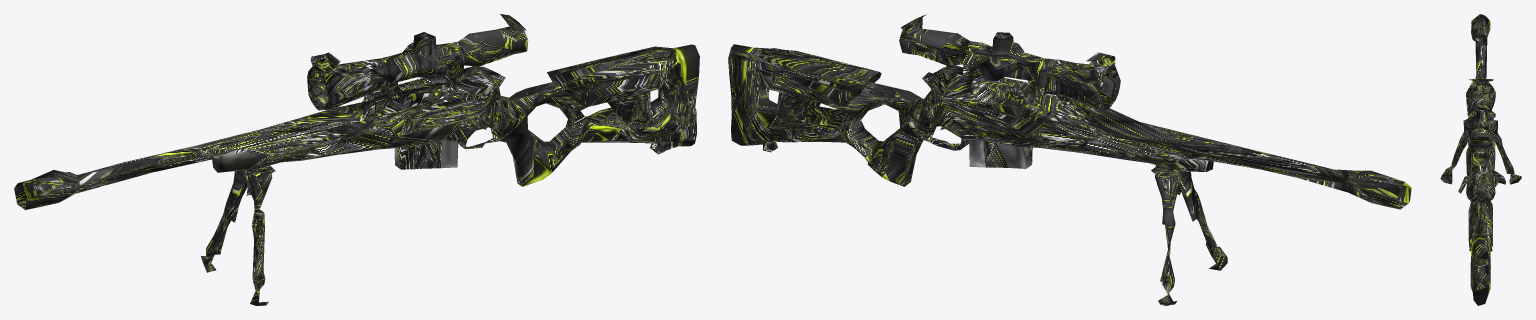
Rendered from gun_sniper_lo.glb.
3 renders of one model, left to right at view 1: azimuth 30°, elevation 25°; view 2: azimuth 150°, elevation 25°; view 3: azimuth 270°, elevation 25°, orthographic. The views are drawn at different scales.
Visible parts, largest first — view 1: Mesh_0; view 2: Mesh_0; view 3: Mesh_0.
Boxes of the visible parts, x1,y1,x2,y2 form: Mesh_0: (14, 14, 699, 305); Mesh_0: (728, 14, 1411, 305); Mesh_0: (1440, 14, 1521, 305).
Bounding box in the file's own units: 1.9 × 0.5563 × 0.3052.
1 material, 1 textured.
